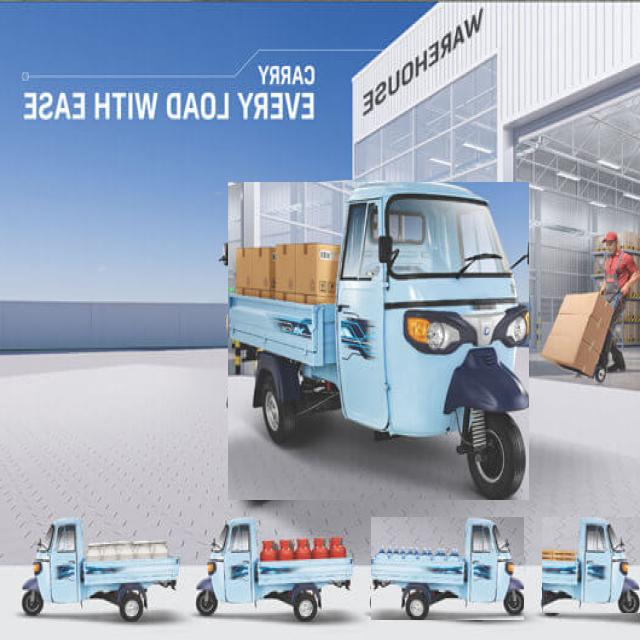autorickshaw: (228, 183, 529, 500), (21, 519, 179, 620), (196, 519, 352, 621), (371, 517, 524, 620), (542, 517, 640, 613)
